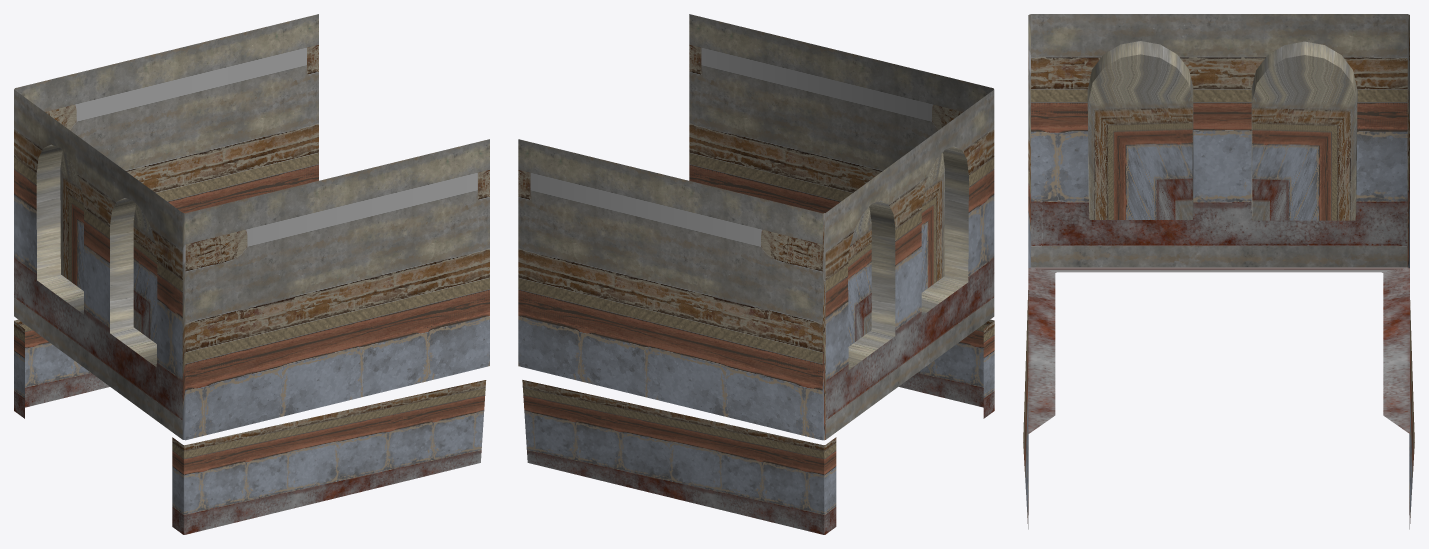
File: Old_house_part_wall.fbx
3 renders of one model, left to right at view 1: azimuth 30°, elevation 25°; view 2: azimuth 150°, elevation 25°; view 3: azimuth 270°, elevation 25°, orthographic. The views are drawn at different scales.
Visible parts, largest first — view 1: Object008; view 2: Object008; view 3: Object008.
Part boxes in pixels (box(x1,y1,x2,y2)): Object008: box(14, 14, 489, 534); Object008: box(518, 14, 994, 534); Object008: box(1023, 14, 1414, 529).
Bounding box in the file's own units: 2081 × 2089 × 2065.
